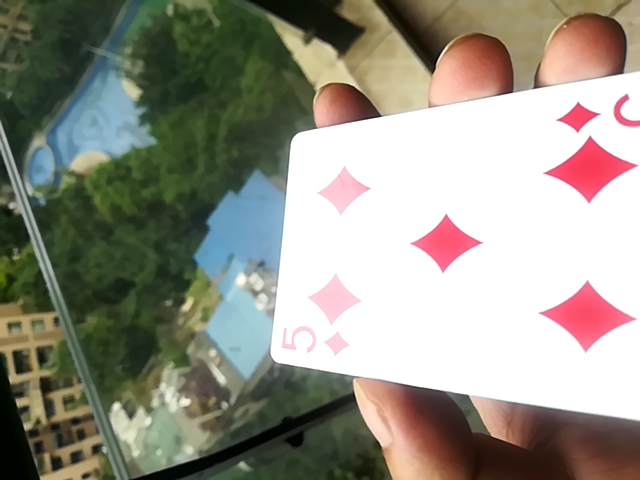fk 5: (261, 64, 637, 430)
